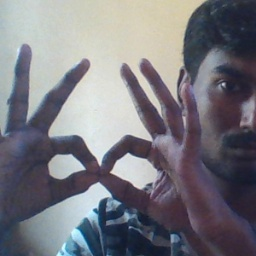B: (25, 100, 182, 213)
